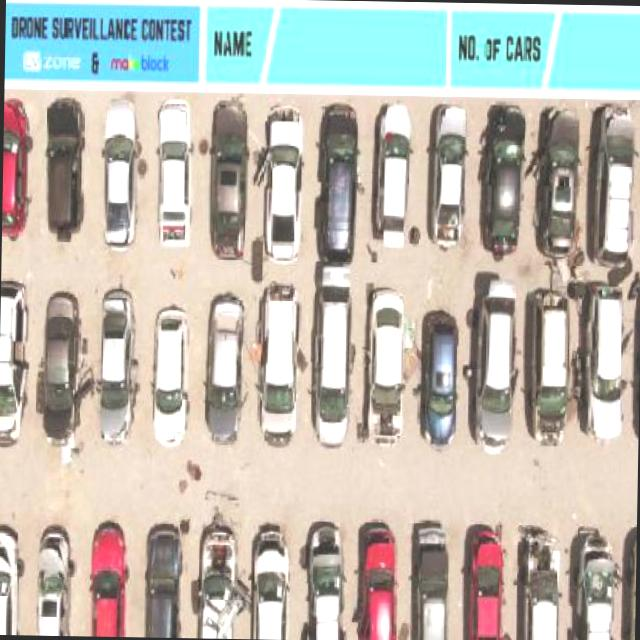car: (470, 278, 519, 461), (309, 260, 356, 447), (252, 280, 301, 442), (528, 279, 574, 451), (364, 278, 410, 446), (200, 291, 250, 444), (590, 100, 636, 266), (204, 99, 252, 258), (581, 286, 627, 449), (149, 97, 198, 250), (96, 99, 144, 253), (36, 290, 81, 450), (318, 97, 362, 259), (455, 518, 513, 640), (532, 105, 578, 258), (370, 98, 414, 255), (41, 96, 89, 239), (98, 284, 140, 446), (351, 514, 404, 640), (564, 525, 620, 640), (147, 304, 194, 436), (265, 106, 304, 262), (196, 521, 247, 639), (482, 102, 520, 258), (430, 100, 470, 247), (0, 272, 31, 456), (303, 518, 349, 640), (422, 306, 462, 444), (407, 516, 450, 640), (1, 88, 38, 232), (85, 516, 126, 637), (141, 523, 183, 638), (32, 526, 76, 633), (523, 528, 564, 640), (252, 521, 290, 639), (0, 524, 19, 633)
